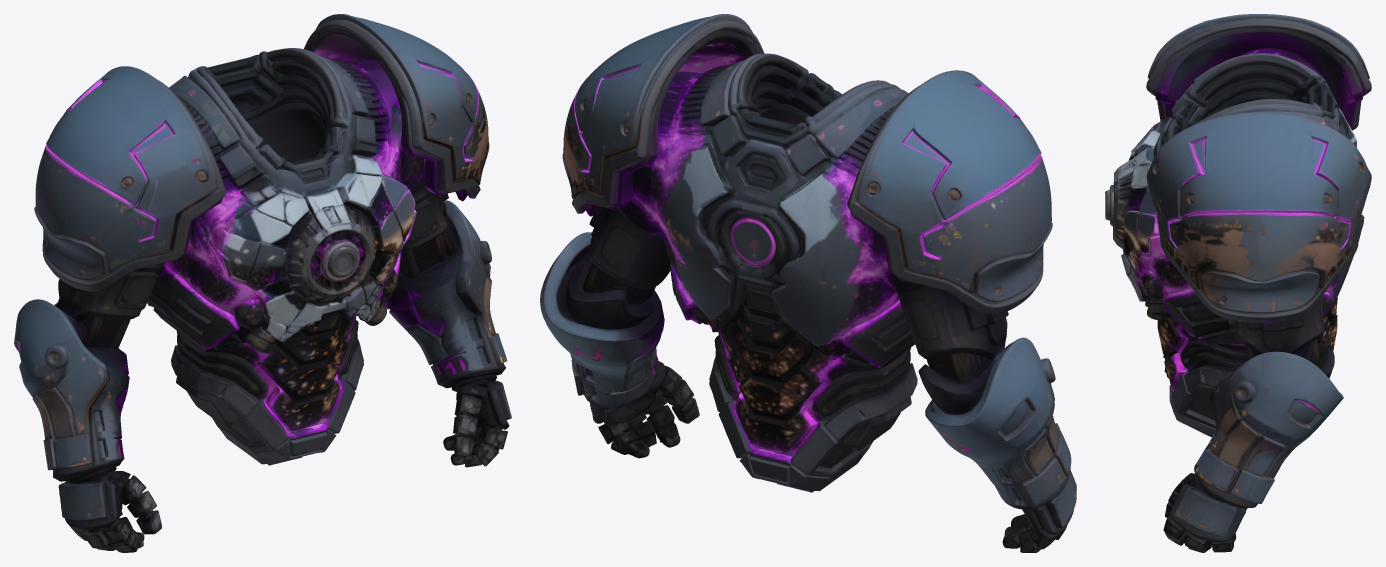
Rendered from pixellabs-futuristic-mech-armor-3d-model-2552.high.glb.
3 views of the same model, side by side, from view 1: azimuth 30°, elevation 25°; view 2: azimuth 150°, elevation 25°; view 3: azimuth 270°, elevation 25° (orthographic). The views are drawn at different scales.
Parts seen in each view (by area): view 1: texture_pbr_v128; view 2: texture_pbr_v128; view 3: texture_pbr_v128.
Boxes of the visible parts, x1=… form: texture_pbr_v128: x1=14, y1=14, x2=511, y2=552; texture_pbr_v128: x1=540, y1=14, x2=1076, y2=552; texture_pbr_v128: x1=1105, y1=14, x2=1371, y2=552.
Size of the model in its own units: 0.9554 by 0.8577 by 0.5157.
1 material, 1 textured.
